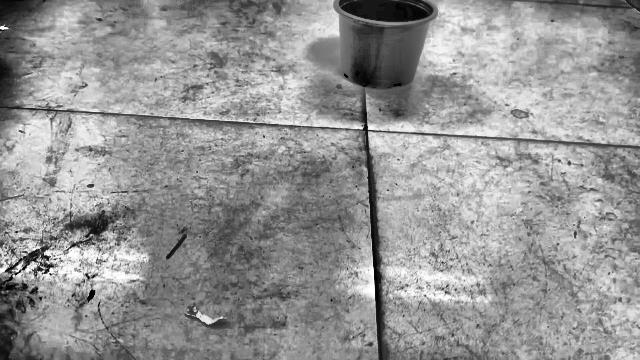pot: (334, 0, 437, 88)
